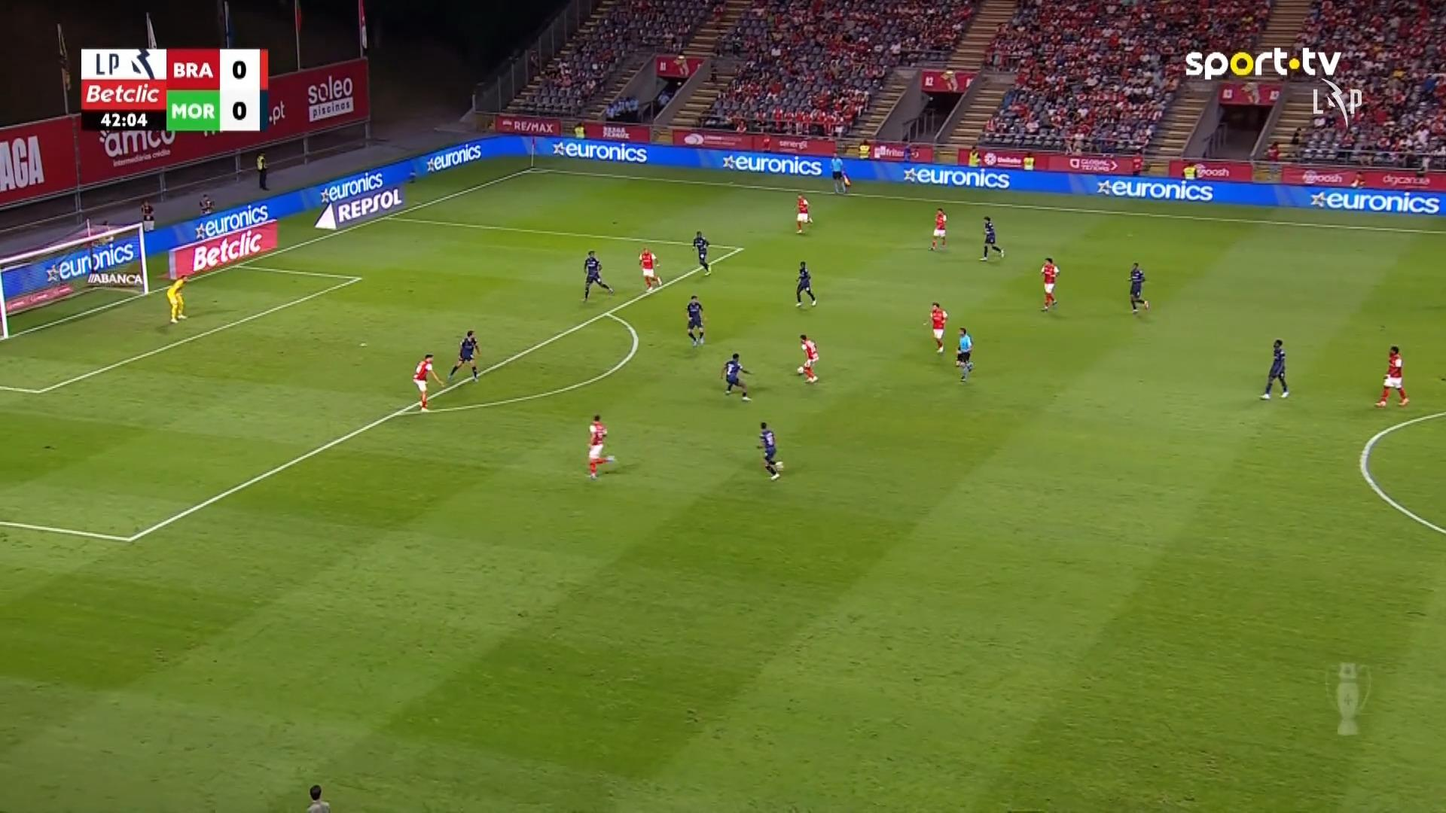ball: (796, 366, 804, 374)
goalkeeper: (165, 274, 189, 323)
player: (1374, 344, 1409, 407), (586, 413, 615, 480), (412, 352, 443, 412), (1259, 337, 1289, 399), (447, 328, 480, 382), (581, 249, 614, 301), (757, 421, 783, 481), (721, 352, 752, 401), (979, 215, 1004, 261), (1127, 261, 1149, 313), (797, 333, 819, 383), (926, 301, 947, 353), (1039, 257, 1059, 311), (685, 294, 705, 347), (638, 246, 660, 293), (794, 260, 816, 307), (303, 781, 335, 813), (691, 230, 710, 275), (929, 207, 947, 251), (794, 192, 812, 234)
referee: (954, 327, 974, 382), (830, 151, 845, 194)
